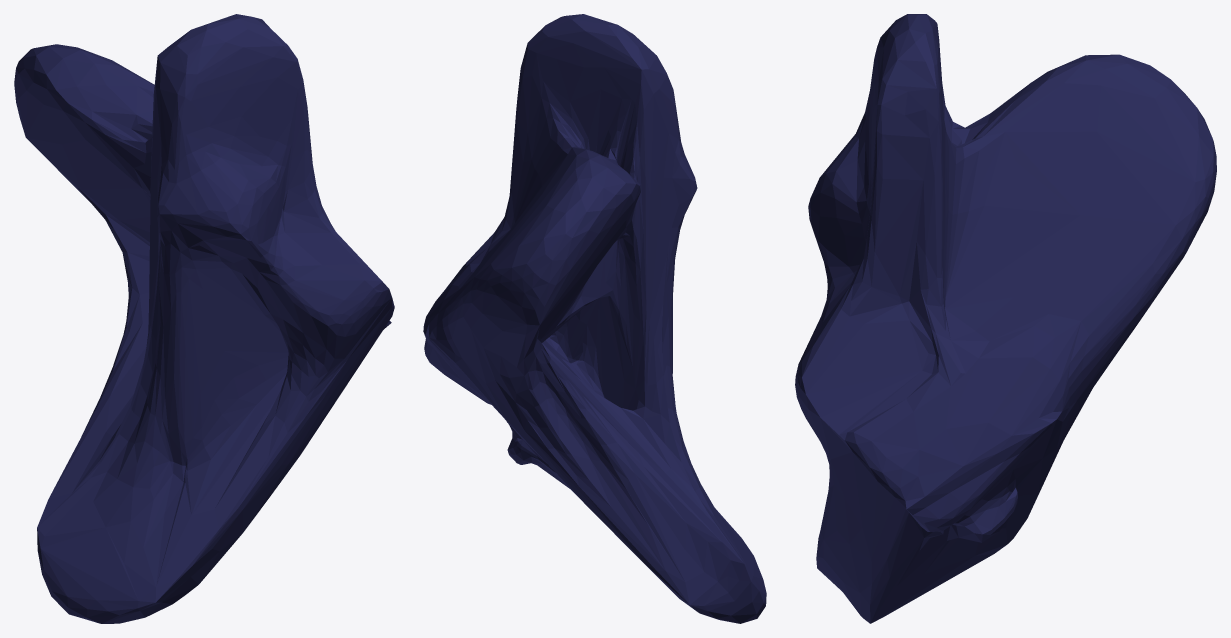
3 views of the same model, side by side, from view 1: azimuth 30°, elevation 25°; view 2: azimuth 150°, elevation 25°; view 3: azimuth 270°, elevation 25° (orthographic). The views are drawn at different scales.
Parts seen in each view (by area): view 1: 967_Cube.3910; view 2: 967_Cube.3910; view 3: 967_Cube.3910.
Part boxes in pixels (x1,y1,x2,y2): 967_Cube.3910: (14,14,394,623); 967_Cube.3910: (423,14,766,623); 967_Cube.3910: (795,14,1216,623).
Size of the model in its own units: 10.11 by 16.15 by 9.48.
